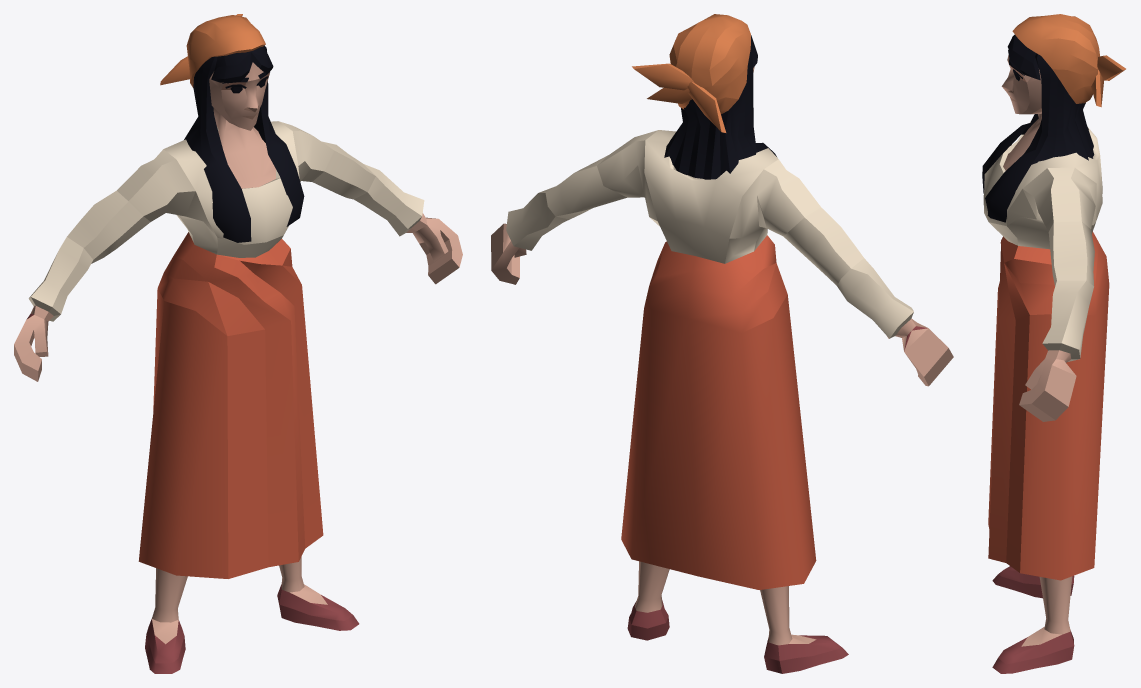
Rendered from Woman_3.fbx.
3 renders of one model, left to right at view 1: azimuth 30°, elevation 25°; view 2: azimuth 150°, elevation 25°; view 3: azimuth 270°, elevation 25°, orthographic. The views are drawn at different scales.
Parts seen in each view (by area): view 1: Woman_3; view 2: Woman_3; view 3: Woman_3.
Part boxes in pixels (bbox=[...]): Woman_3: bbox=[14, 14, 462, 673]; Woman_3: bbox=[491, 14, 953, 673]; Woman_3: bbox=[982, 14, 1125, 673].
Size of the model in its own units: 43.79 by 57.34 by 12.37.
